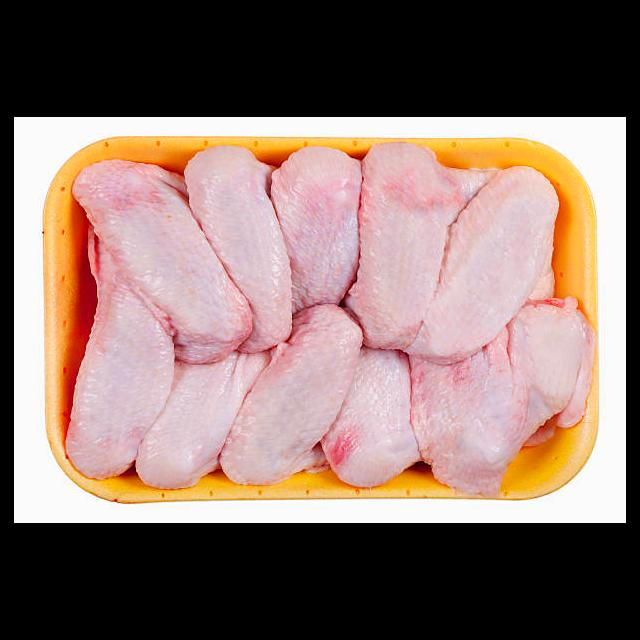chicken: (69, 158, 252, 367), (410, 291, 594, 495), (341, 144, 502, 352), (407, 168, 558, 366), (64, 223, 176, 481), (220, 304, 363, 487), (183, 146, 295, 350), (136, 344, 271, 490), (270, 146, 369, 310), (320, 343, 426, 489)
